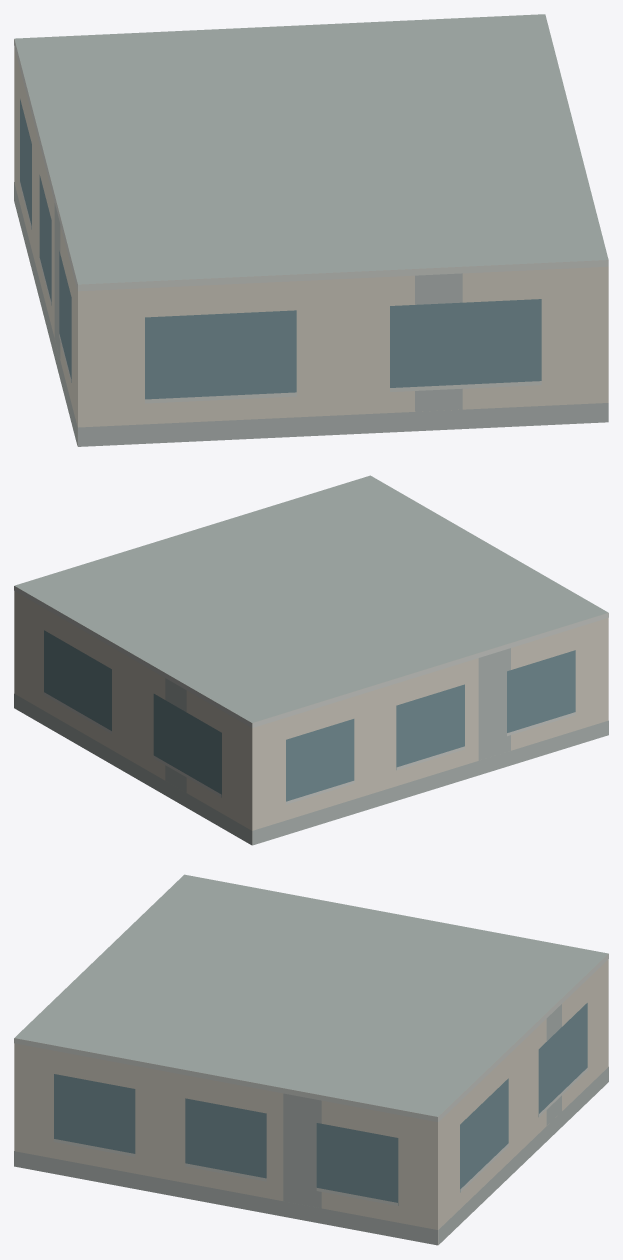
Rendered from residential-cb2839d3-5dae-4c90-ac55-fff527392a23.glb.
3 views of the same model, one above another, from view 1: azimuth 30°, elevation 25°; view 2: azimuth 150°, elevation 25°; view 3: azimuth 270°, elevation 25° (orthographic). The views are drawn at different scales.
Visible parts, largest first — view 1: residential-cb2839d3-5dae-4c90-ac55-fff527392a23.tmp; view 2: residential-cb2839d3-5dae-4c90-ac55-fff527392a23.tmp; view 3: residential-cb2839d3-5dae-4c90-ac55-fff527392a23.tmp.
Boxes of the visible parts, x1,y1,x2,y2 form: residential-cb2839d3-5dae-4c90-ac55-fff527392a23.tmp: [14, 14, 608, 446]; residential-cb2839d3-5dae-4c90-ac55-fff527392a23.tmp: [14, 475, 608, 845]; residential-cb2839d3-5dae-4c90-ac55-fff527392a23.tmp: [14, 874, 608, 1245].
Bounding box in the file's own units: 12.37 × 3.05 × 12.81.
